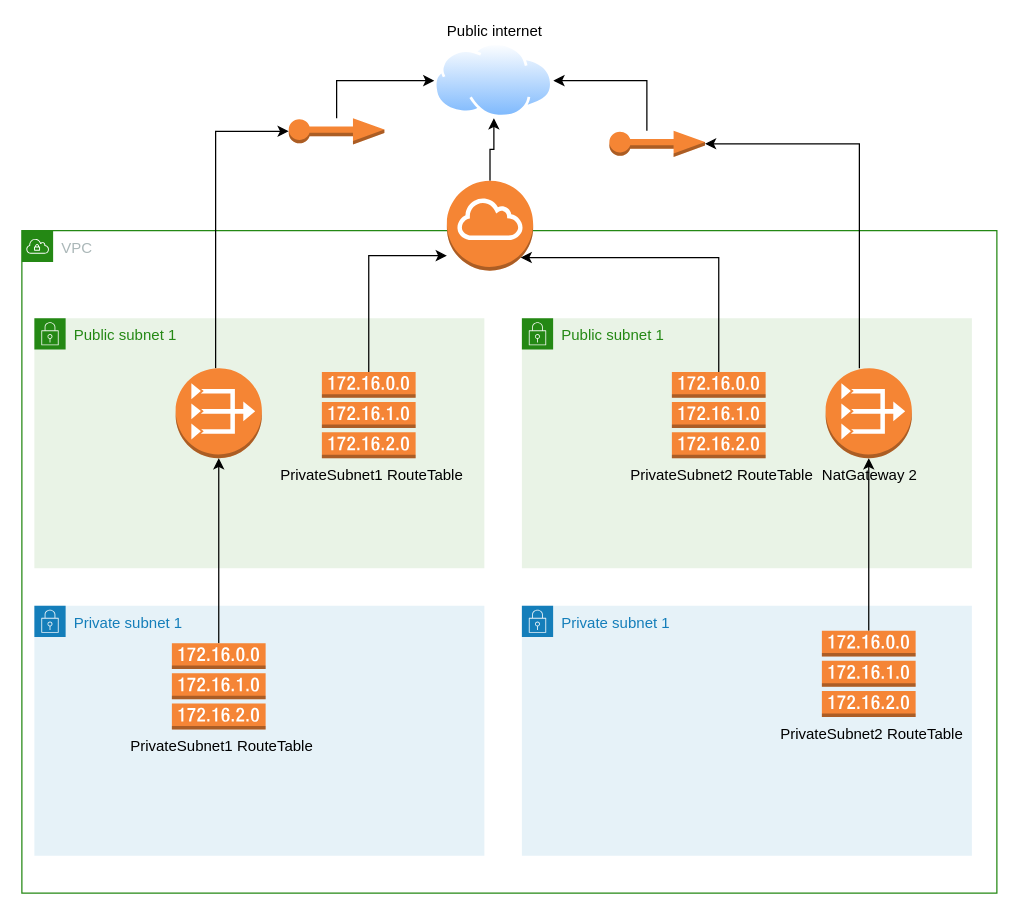
The diagram is 1019 pixels wide and 915 high, and some of its shapes have lost their labels. The centre of each missing label's shape, as x and y in pixels:
InternetGateway: the point at 489,225
NatGateway 1: the point at 218,412
NatGatewey1 IP: the point at 336,130
NatGatewey2 IP: the point at 656,143
